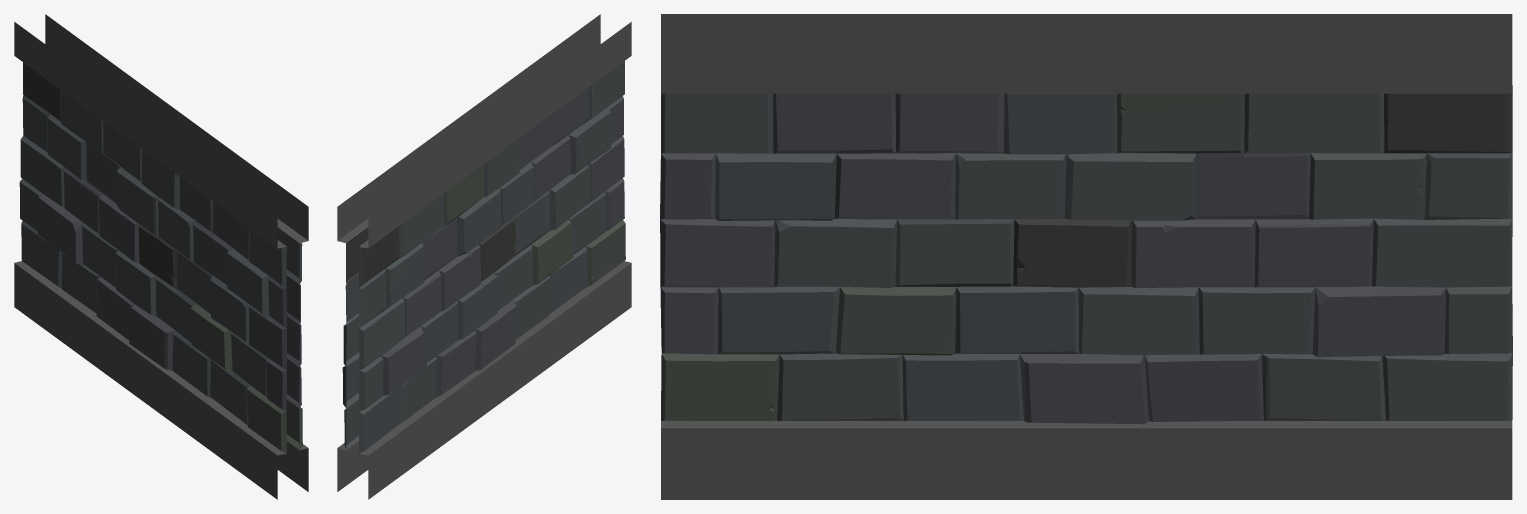
File: Wall_1.fbx
3 renders of one model, left to right at view 1: azimuth 30°, elevation 25°; view 2: azimuth 150°, elevation 25°; view 3: azimuth 270°, elevation 25°, orthographic. The views are drawn at different scales.
Visible parts, largest first — view 1: Wall; view 2: Wall; view 3: Wall.
Boxes of the visible parts, x1=… form: Wall: x1=14, y1=14, x2=308, y2=499; Wall: x1=337, y1=14, x2=631, y2=499; Wall: x1=660, y1=14, x2=1512, y2=499.
Size of the model in its own units: 54.32 by 478 by 801.
